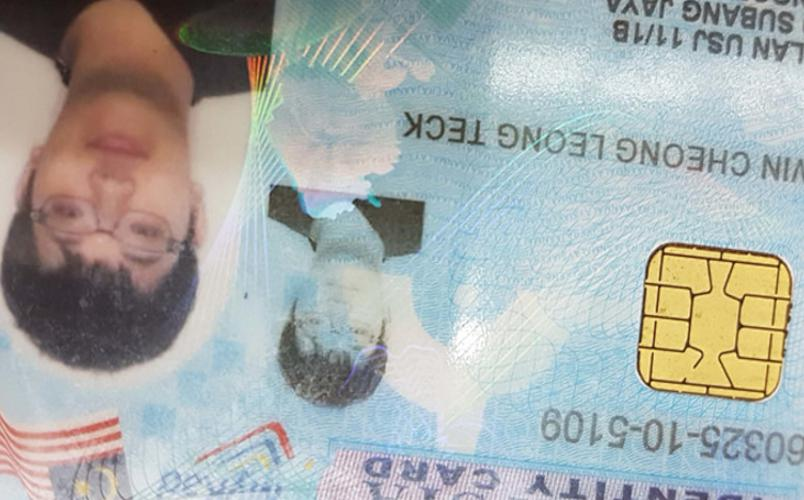hologramB: (278, 2, 402, 184)
